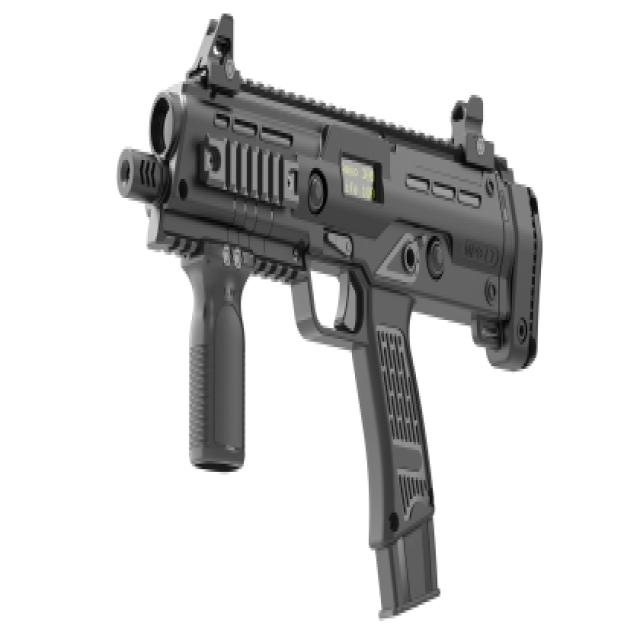firearm: (115, 10, 545, 618)
